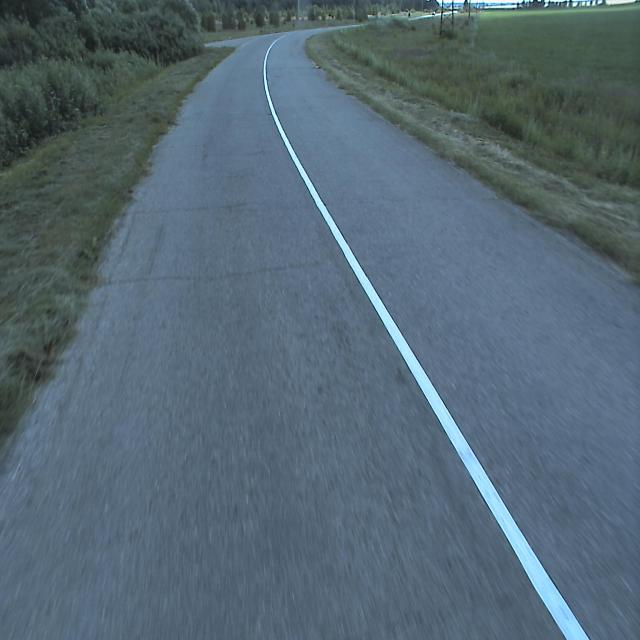road: (0, 25, 640, 639)
